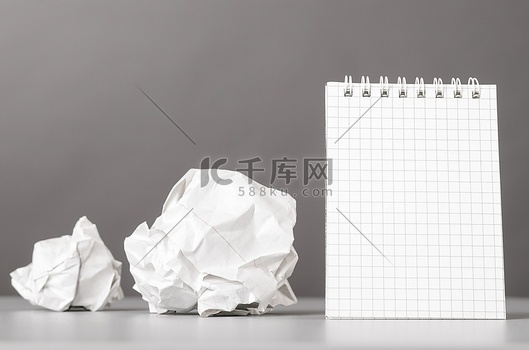Paper: (122, 169, 300, 316), (10, 215, 124, 312)
